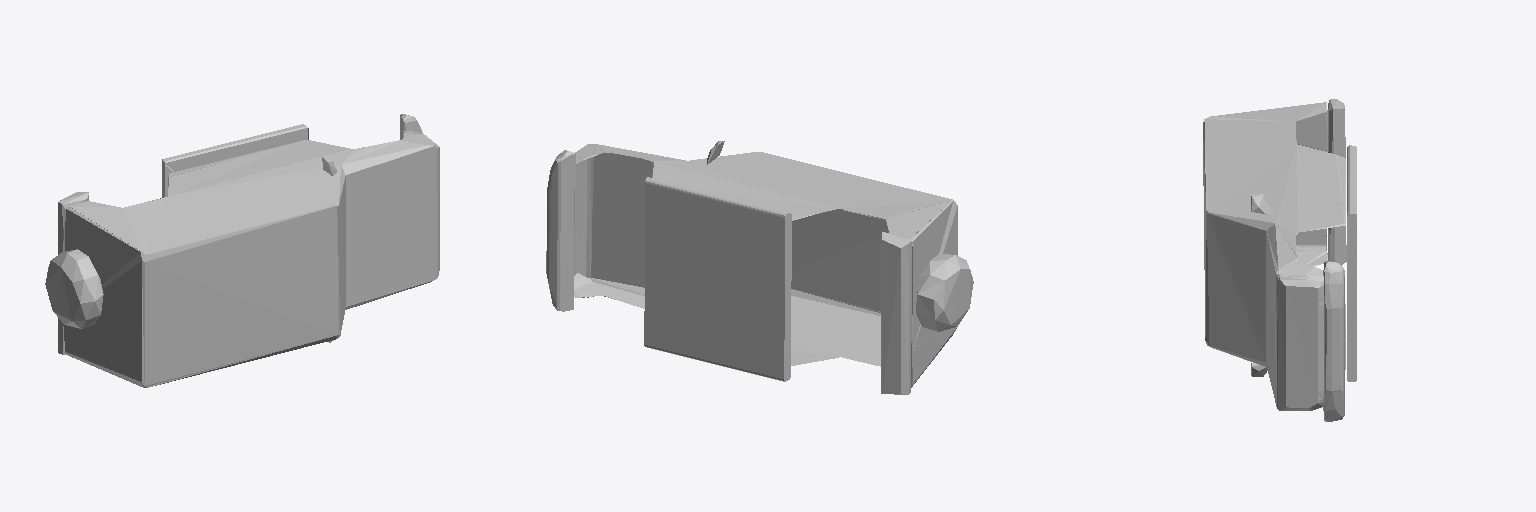
File: G500long_col.obj
The picture shows the model from 3 angles: view 1: azimuth 30°, elevation 25°; view 2: azimuth 150°, elevation 25°; view 3: azimuth 270°, elevation 25°; orthographic projection.
Visible parts, largest first — view 1: G500long.036; view 2: G500long.036; view 3: G500long.036.
Boxes of the visible parts, x1,y1,x2,y2 form: G500long.036: [45, 114, 439, 387]; G500long.036: [546, 141, 973, 394]; G500long.036: [1203, 99, 1356, 421].
Bounding box in the file's own units: 4.63 × 2.07 × 1.6.